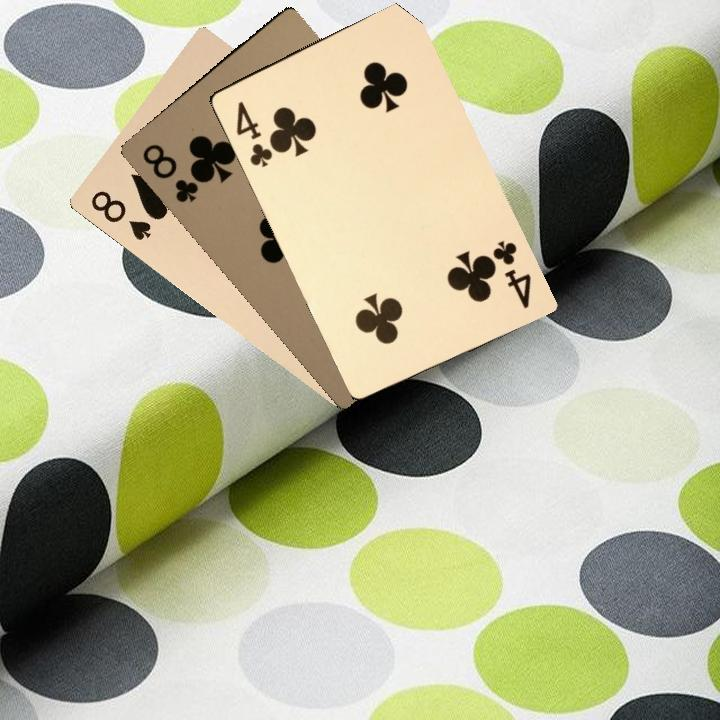4c: (231, 97, 281, 169), (488, 236, 534, 311)
8c: (138, 139, 202, 205)
8s: (85, 186, 154, 244)
